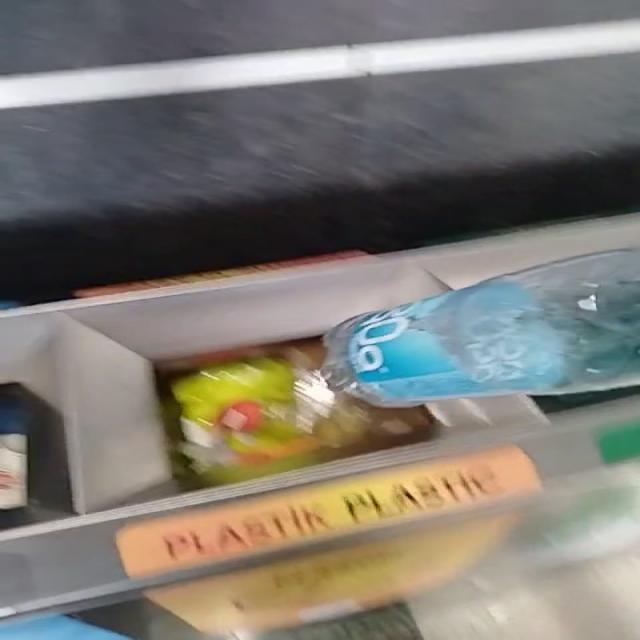Plastic: (324, 250, 640, 407)
